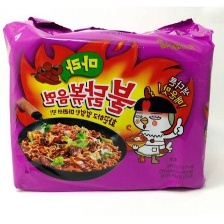snack: (0, 9, 224, 200)
